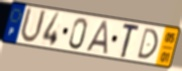0: (68, 17, 90, 51)
4: (41, 11, 62, 49)
A: (85, 20, 109, 55)
D: (135, 27, 159, 60)
T: (119, 23, 142, 60)
U: (18, 6, 47, 45)
